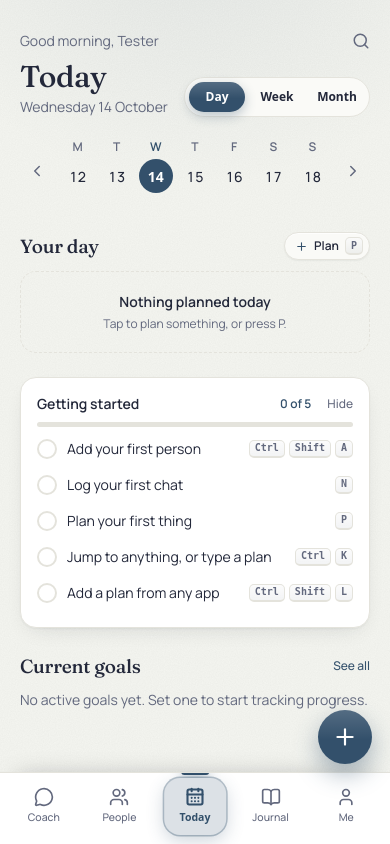
Test: Me in sections › opens on You, and 1-5 switch sections
The image size is (390, 844).
Click the button "Me".
click(346, 807)  # box [308,781,384,832]
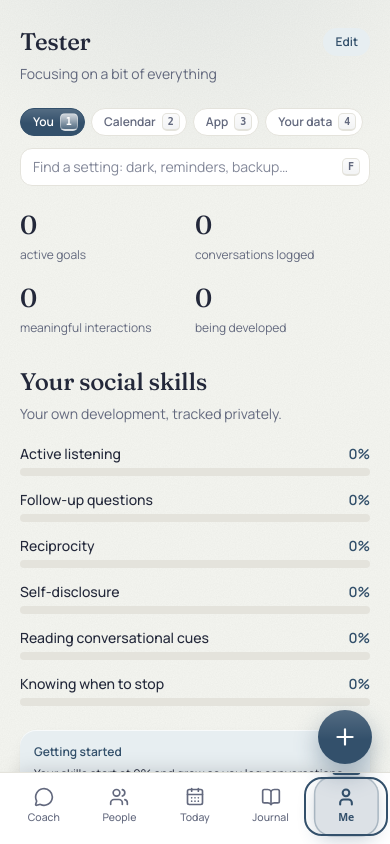
Now the text "Your social skills" is shown, box [20,367,207,396]
Type keys "2"
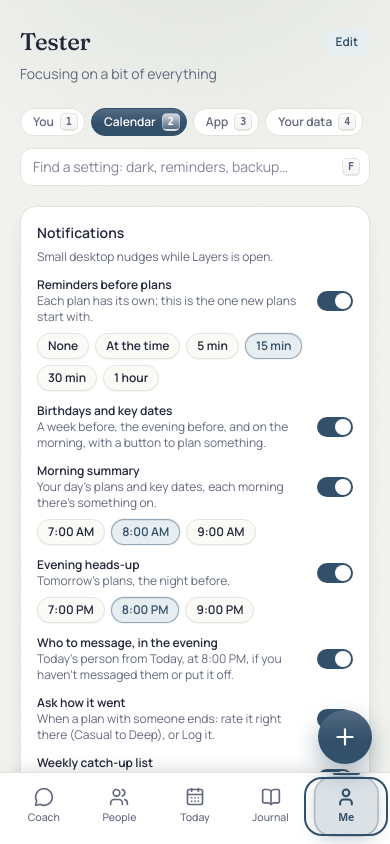
Now the switch labelled "Morning summary" is shown, box [37,463,353,511]
Now the text "Your social skills" is gone
Type keys "4"
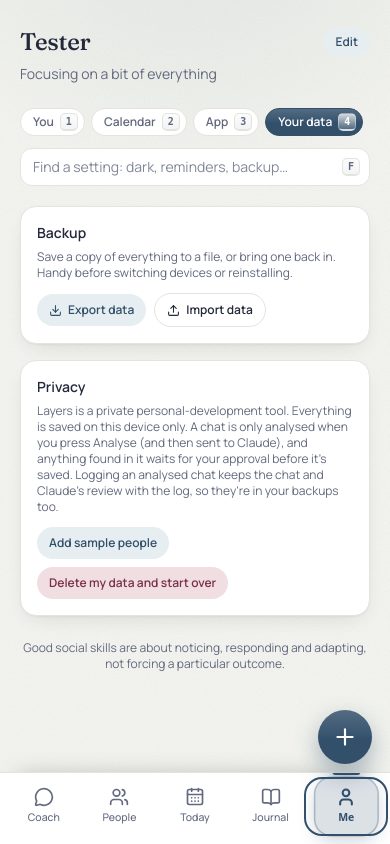
Now the button "Export data" is shown, box [37,294,146,326]
